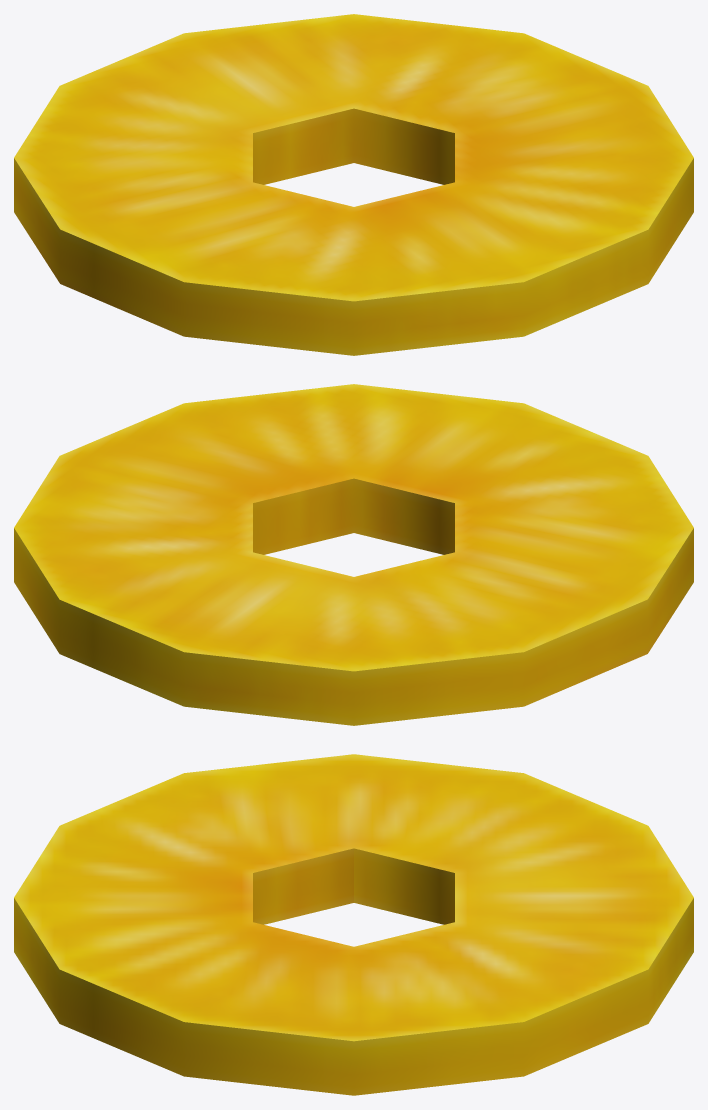
File: jsf_Pineapple_01.fbx
The picture shows the model from 3 angles, top to bottom: view 1: azimuth 30°, elevation 25°; view 2: azimuth 150°, elevation 25°; view 3: azimuth 270°, elevation 25°; orthographic projection.
Visible parts, largest first — view 1: jsf_Pineapple_01; view 2: jsf_Pineapple_01; view 3: jsf_Pineapple_01.
Boxes of the visible parts, x1,y1,x2,y2 form: jsf_Pineapple_01: (14,14,693,355); jsf_Pineapple_01: (14,384,693,725); jsf_Pineapple_01: (14,754,693,1095).
Size of the model in its own units: 6.95 by 0.6148 by 6.96.
